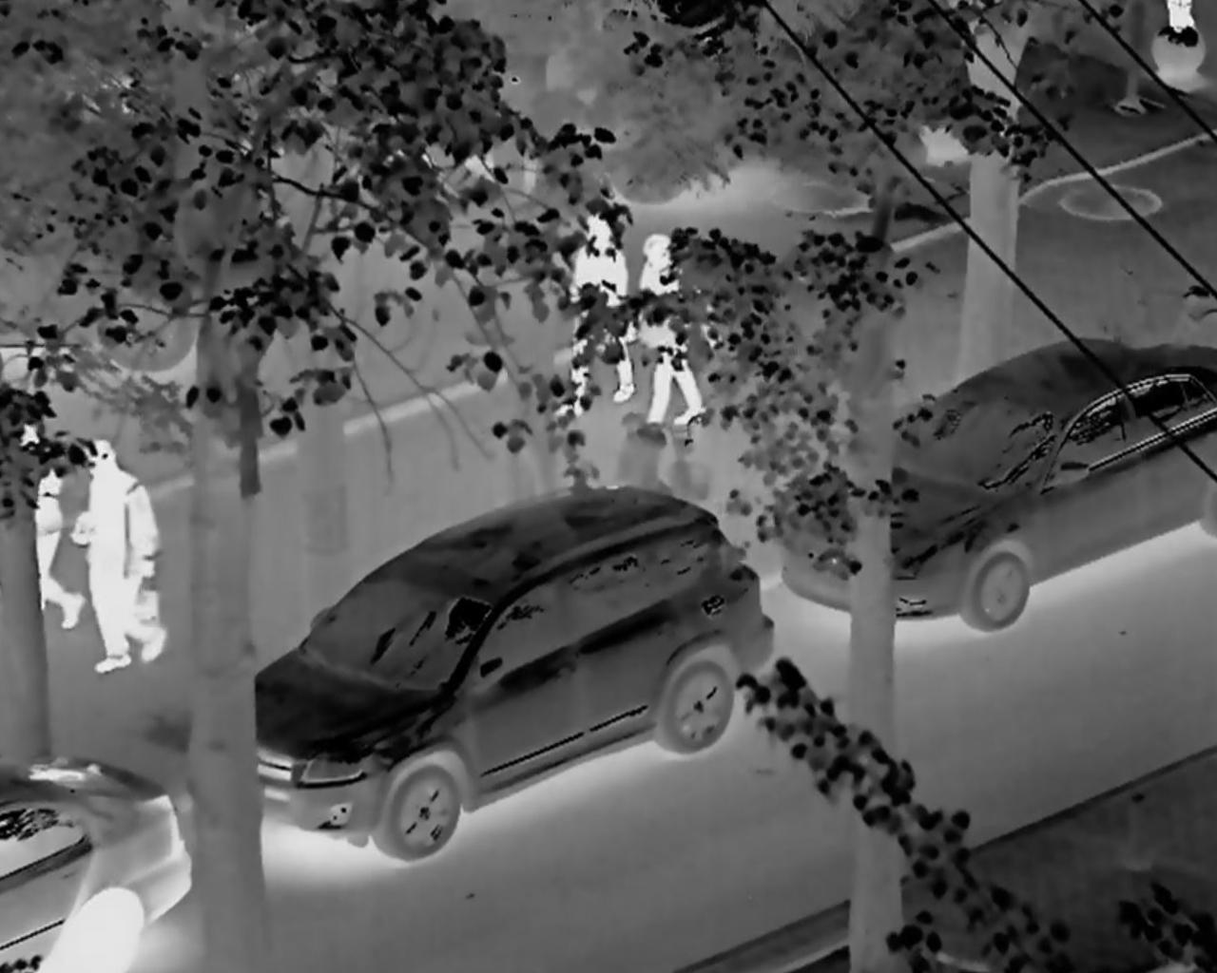person: (73, 416, 181, 695), (11, 413, 103, 655), (541, 198, 640, 404), (623, 235, 716, 442)
